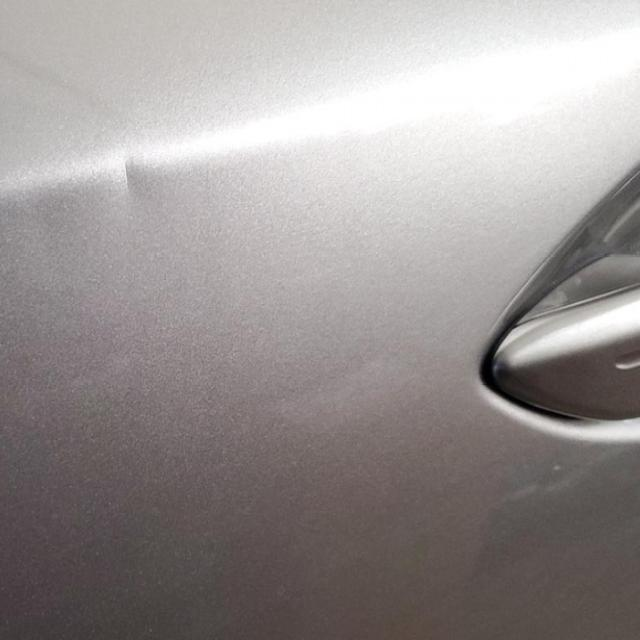dents: (54, 76, 225, 296)
